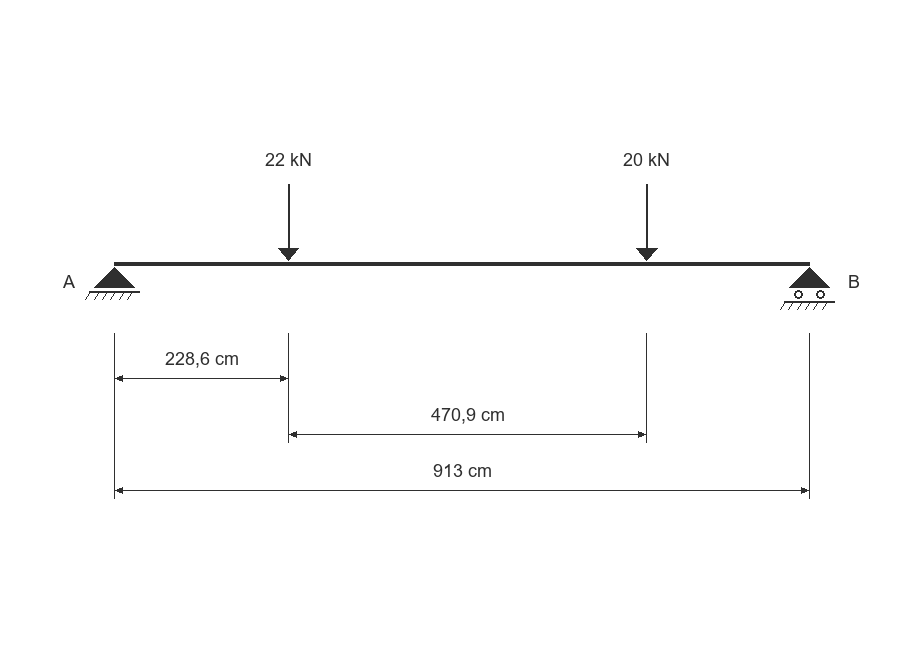pin_support: (85, 267, 140, 300)
point_load: (636, 184, 658, 261), (278, 184, 299, 261)
roller_support: (780, 267, 835, 310)
